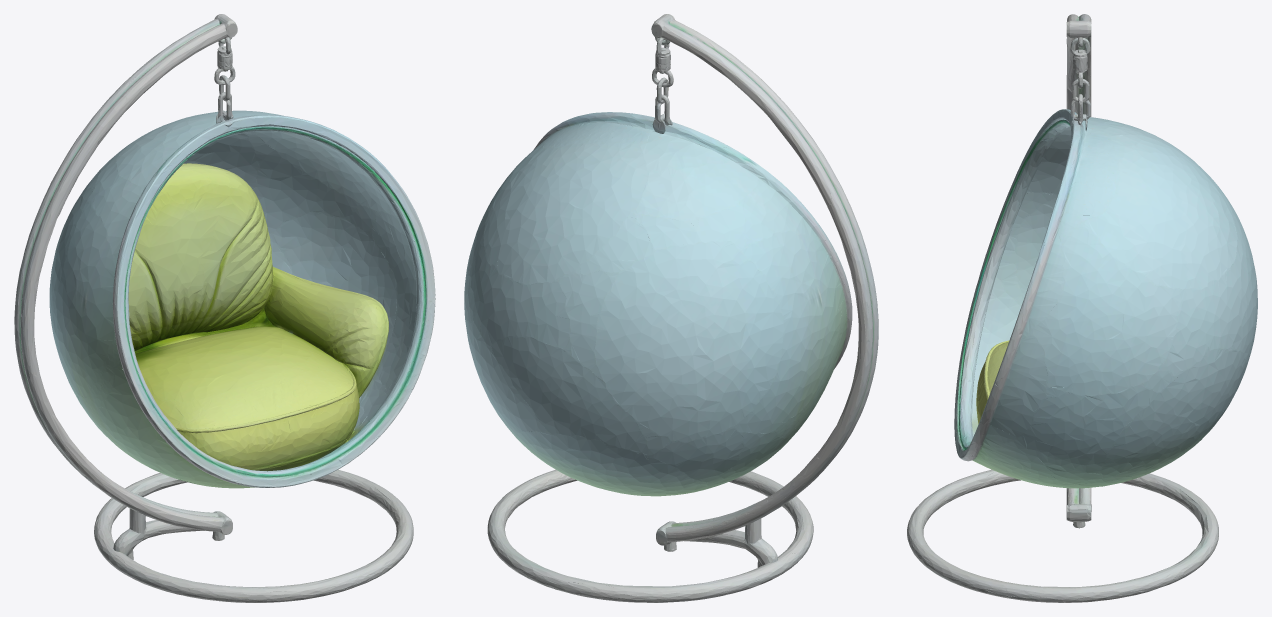
File: hanging-bubble-chair.glb
3 views of the same model, side by side, from view 1: azimuth 30°, elevation 25°; view 2: azimuth 150°, elevation 25°; view 3: azimuth 270°, elevation 25° (orthographic). The views are drawn at different scales.
Visible parts, largest first — view 1: material; view 2: material; view 3: material.
Part boxes in pixels (x1,y1,x2,y2): material: [14, 14, 435, 602]; material: [464, 14, 878, 602]; material: [907, 14, 1257, 602].
Bounding box in the file's own units: 0.7551 × 0.9816 × 0.6143.
Materials: 1 (1 with a texture image).
